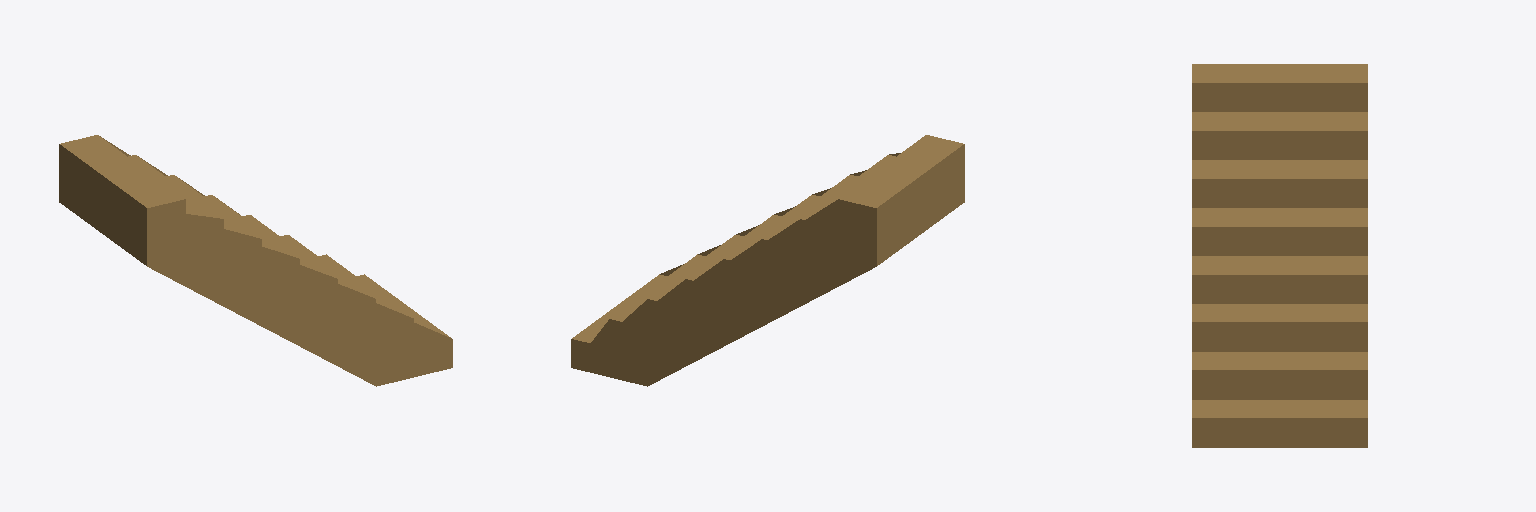
File: Stairs_Wood_01.obj
3 views of the same model, side by side, from view 1: azimuth 30°, elevation 25°; view 2: azimuth 150°, elevation 25°; view 3: azimuth 270°, elevation 25° (orthographic).
Parts seen in each view (by area): view 1: Mesh1 Stairs_Wood Model; view 2: Mesh1 Stairs_Wood Model; view 3: Mesh1 Stairs_Wood Model.
Part boxes in pixels (bbox=[...]): Mesh1 Stairs_Wood Model: bbox=[59, 135, 452, 386]; Mesh1 Stairs_Wood Model: bbox=[571, 135, 964, 386]; Mesh1 Stairs_Wood Model: bbox=[1192, 64, 1367, 447].
Size of the model in its own units: 3 by 2.2 by 1.5.